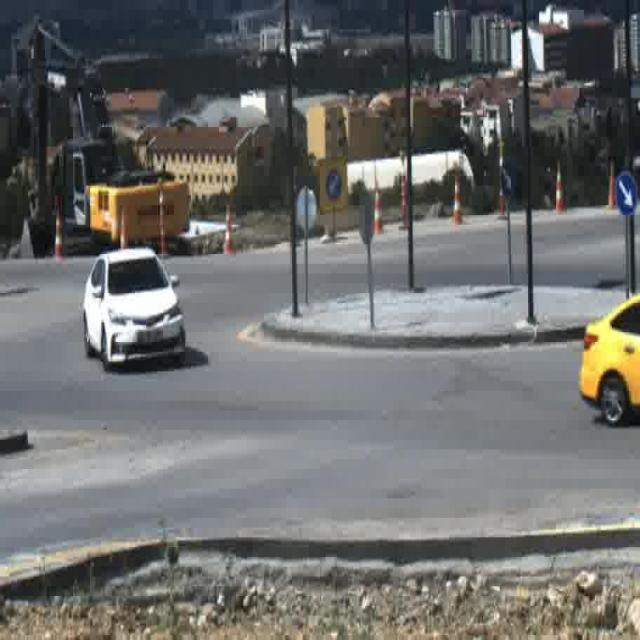Car: (82, 246, 185, 370), (577, 297, 640, 424)
